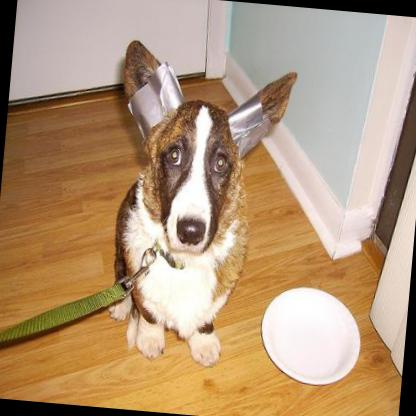Cardigan: (96, 35, 300, 372)
